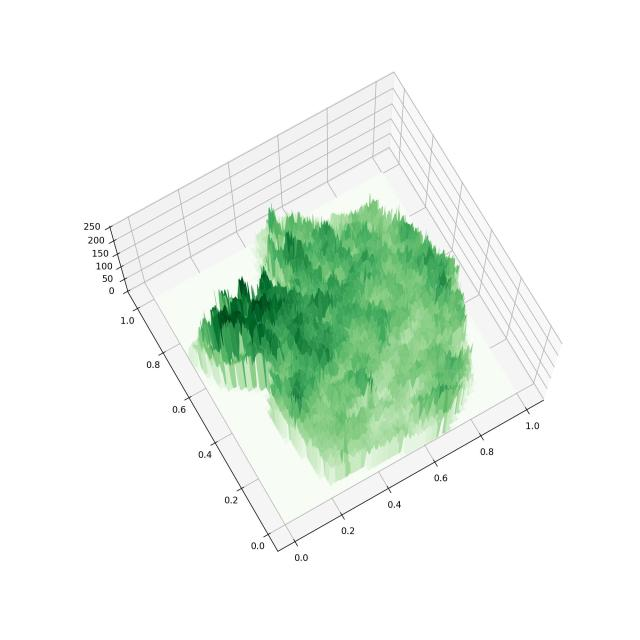spruce: (64, 40, 586, 574)
